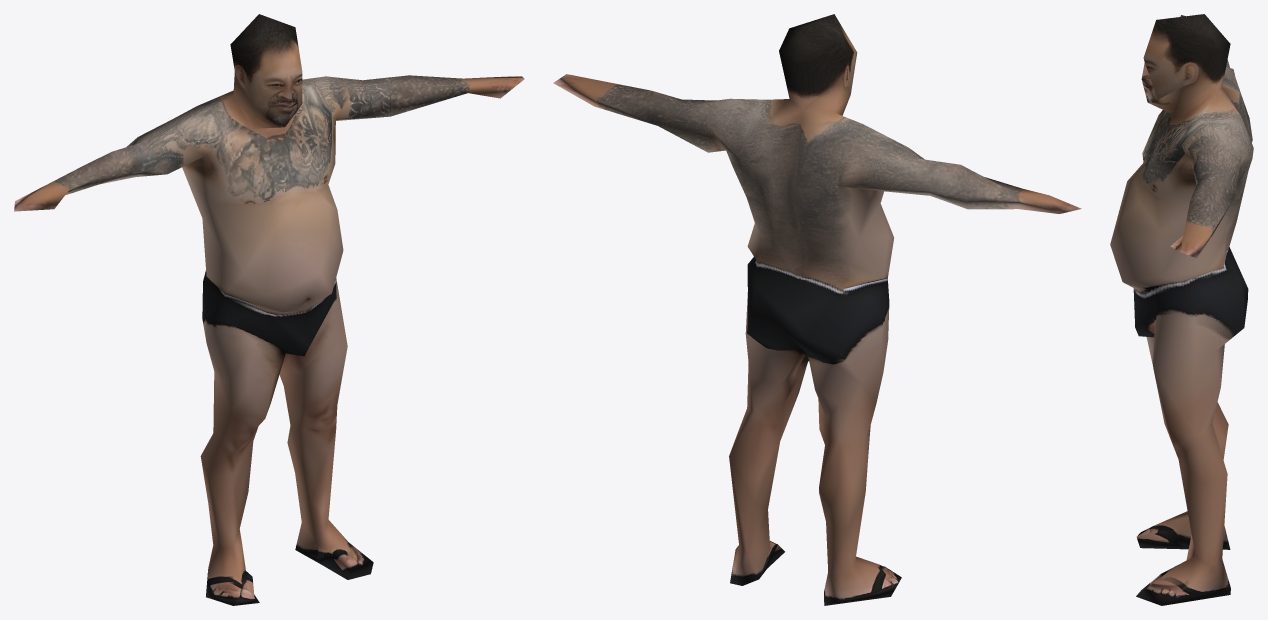
Rendered from npc_03.glb.
3 views of the same model, side by side, from view 1: azimuth 30°, elevation 25°; view 2: azimuth 150°, elevation 25°; view 3: azimuth 270°, elevation 25° (orthographic). The views are drawn at different scales.
Parts seen in each view (by area): view 1: tripo_node_cc7bbed1-d46b-4d7b-81db-502a32a9f5ed; view 2: tripo_node_cc7bbed1-d46b-4d7b-81db-502a32a9f5ed; view 3: tripo_node_cc7bbed1-d46b-4d7b-81db-502a32a9f5ed.
Boxes of the visible parts, x1=… form: tripo_node_cc7bbed1-d46b-4d7b-81db-502a32a9f5ed: x1=14, y1=14, x2=524, y2=605; tripo_node_cc7bbed1-d46b-4d7b-81db-502a32a9f5ed: x1=553, y1=14, x2=1081, y2=605; tripo_node_cc7bbed1-d46b-4d7b-81db-502a32a9f5ed: x1=1110, y1=14, x2=1253, y2=605.
Bounding box in the file's own units: 0.9481 × 0.9799 × 0.2322.
Materials: 1 (1 with a texture image).
